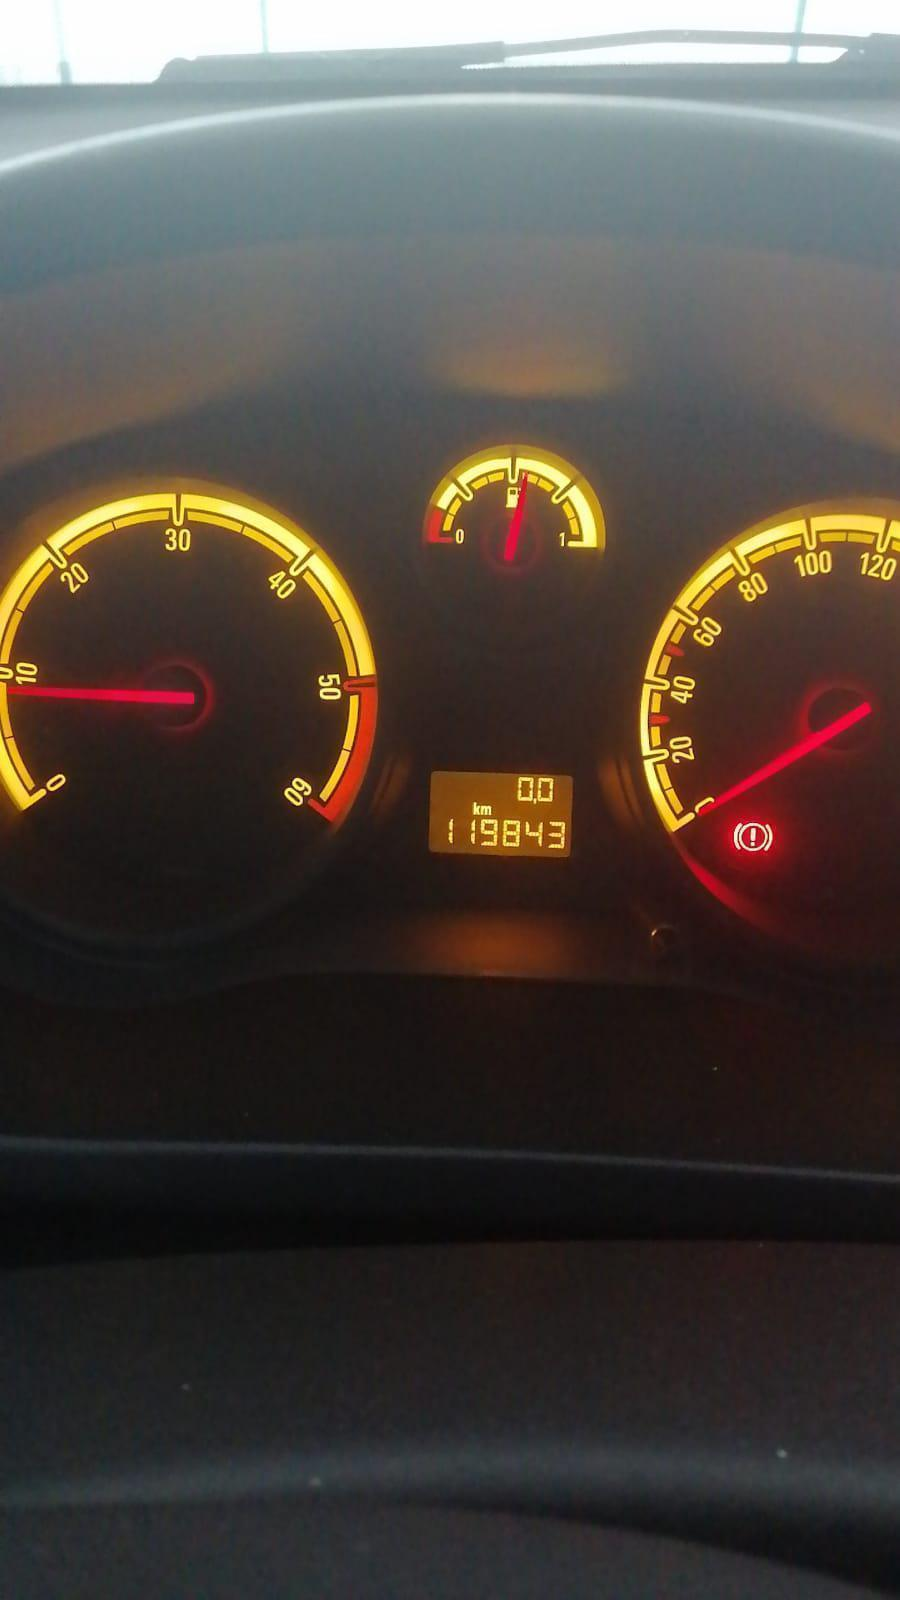,: (532, 797, 537, 805)
0: (536, 776, 554, 802), (516, 776, 534, 801)
1: (469, 818, 476, 845), (447, 816, 454, 844)
3: (547, 821, 566, 849)
4: (524, 820, 544, 847)
8: (502, 819, 520, 847)
9: (479, 818, 498, 846)
X: (473, 801, 480, 815), (480, 805, 491, 815)
odometer: (425, 769, 575, 860)
